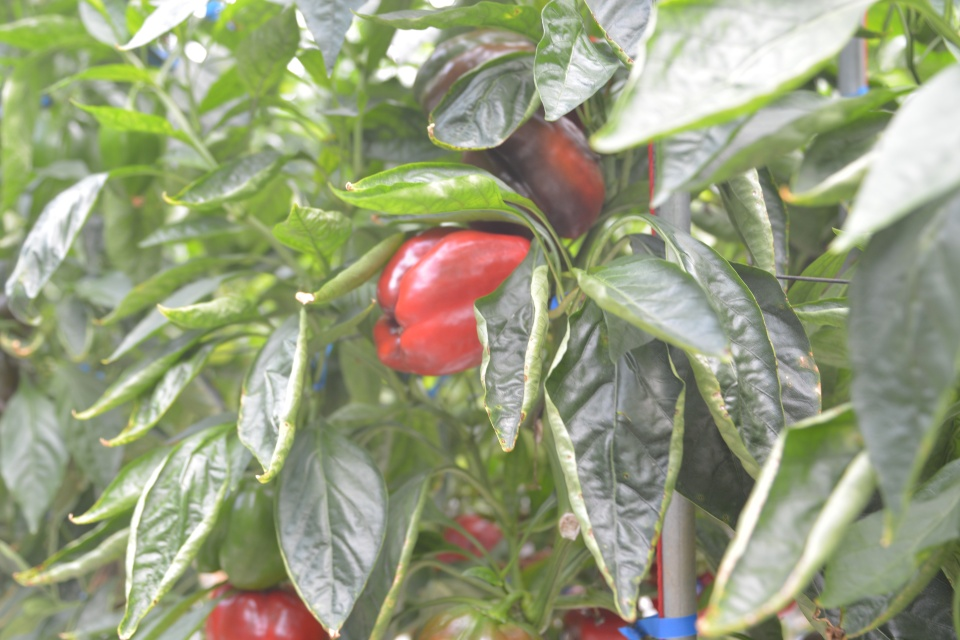fruit: (370, 224, 531, 376), (464, 108, 604, 237), (195, 464, 290, 591), (410, 24, 544, 114), (202, 580, 333, 640), (421, 597, 542, 640), (98, 122, 162, 200)
pedicle: (479, 607, 509, 620)
